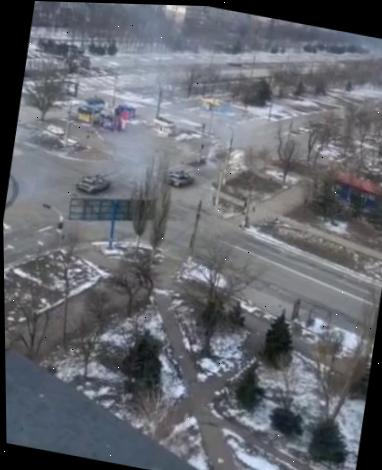tank: (75, 163, 119, 198), (164, 162, 198, 190)
